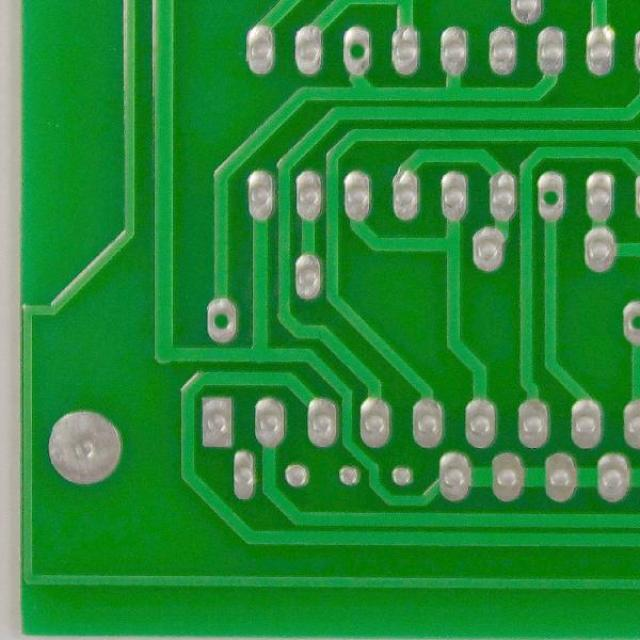Missing_Hole: (202, 294, 242, 344), (338, 22, 375, 76), (534, 170, 568, 223), (620, 298, 639, 348)
